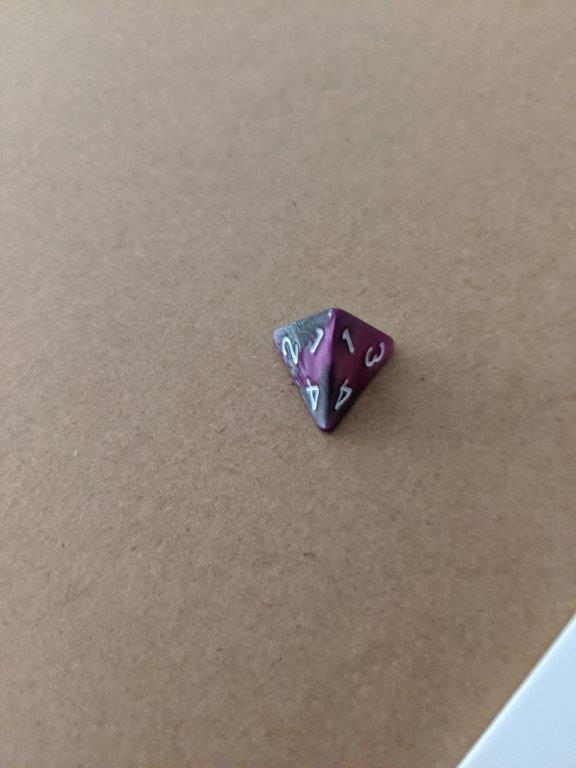d4-1: (274, 300, 400, 437)
